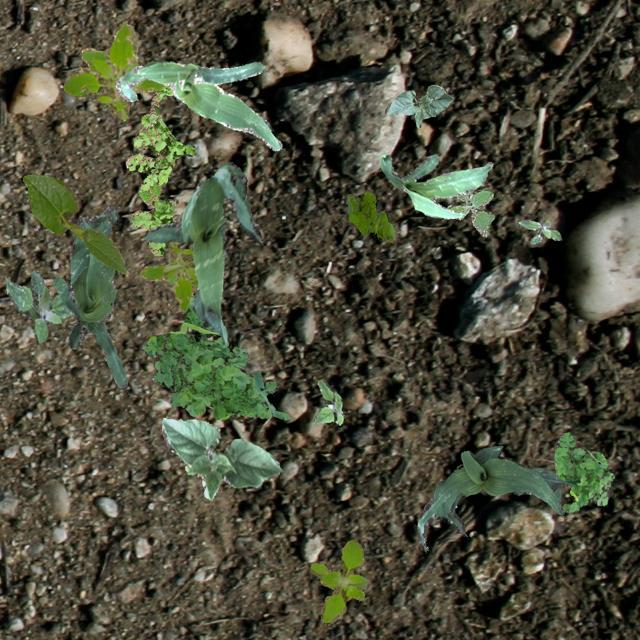crop: (142, 160, 262, 342), (416, 444, 572, 544), (115, 59, 282, 150), (52, 205, 126, 388), (21, 174, 125, 272), (160, 416, 280, 499), (379, 154, 492, 218), (384, 85, 452, 126)
weed: (144, 294, 288, 418), (124, 84, 194, 254), (61, 21, 166, 120), (554, 432, 614, 512), (5, 271, 73, 341), (308, 538, 364, 622), (140, 240, 197, 310), (346, 190, 394, 240), (446, 188, 494, 235), (314, 378, 342, 424), (518, 218, 560, 244)
